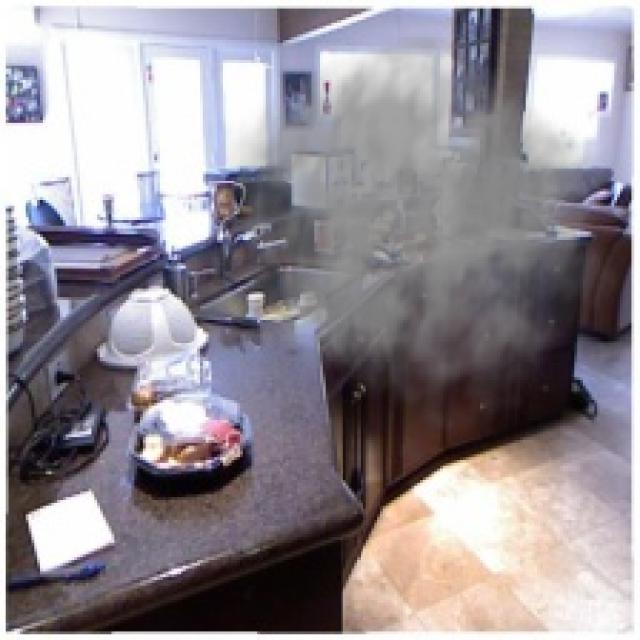Smoke: (222, 32, 628, 437)
